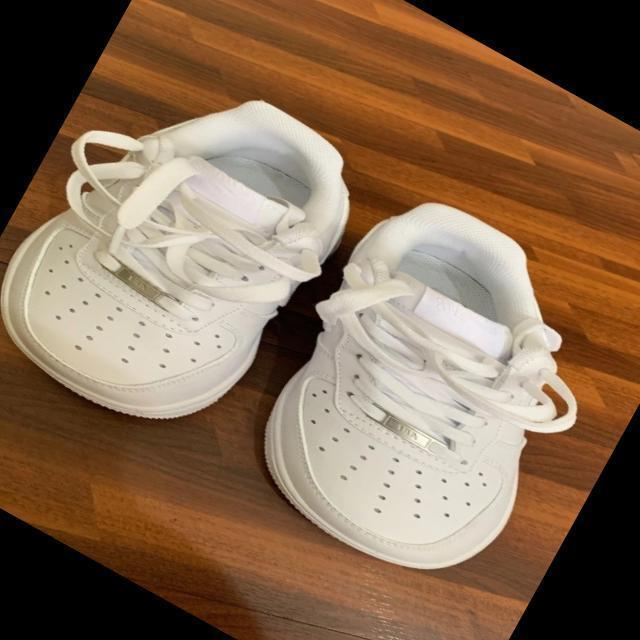nike original air force: (215, 164, 637, 612), (0, 25, 388, 473)
